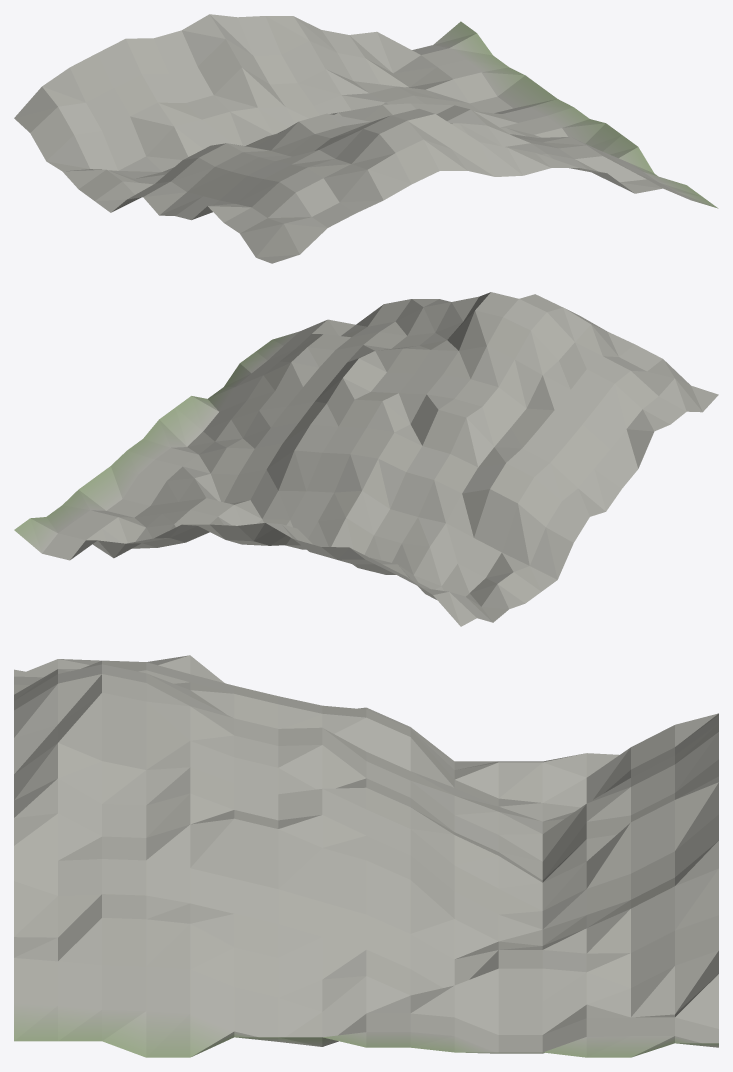
The picture shows the model from 3 angles, top to bottom: view 1: azimuth 30°, elevation 25°; view 2: azimuth 150°, elevation 25°; view 3: azimuth 270°, elevation 25°; orthographic projection. The views are drawn at different scales.
Size of the model in its own units: 32 by 10.68 by 32.
